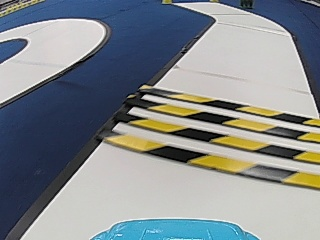bump: (131, 97, 303, 182)
